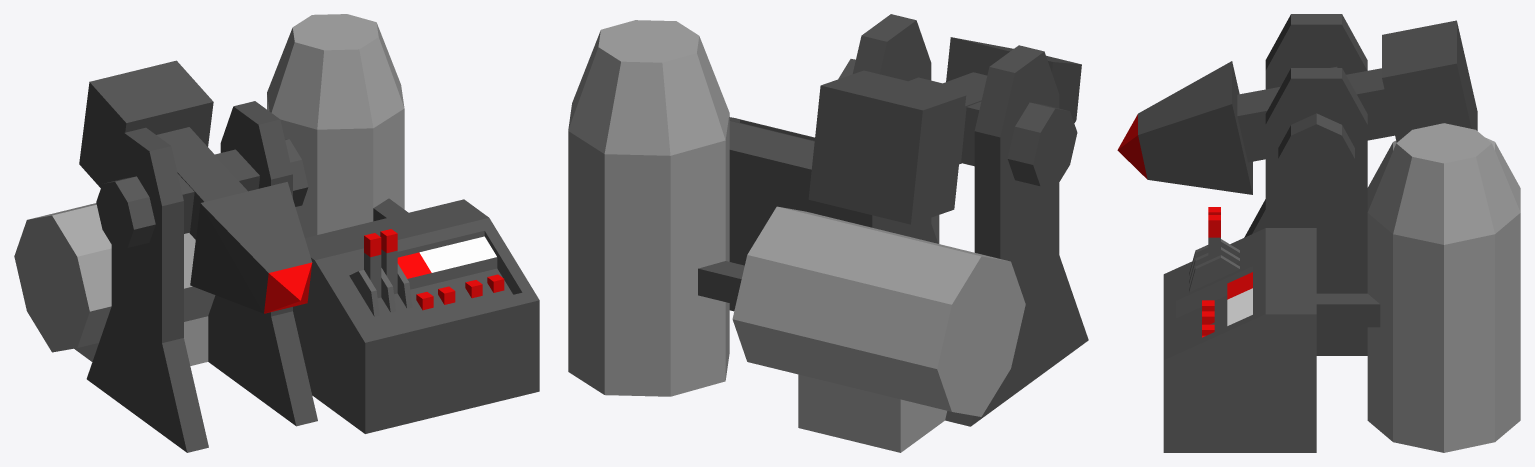
The model's file is madmachine.obj.
The picture shows the model from 3 angles, left to right: view 1: azimuth 30°, elevation 25°; view 2: azimuth 150°, elevation 25°; view 3: azimuth 270°, elevation 25°; orthographic projection. The views are drawn at different scales.
Parts seen in each view (by area): view 1: madmachine_back; view 2: madmachine_back; view 3: madmachine_back.
Part boxes in pixels (bbox=[...]): madmachine_back: bbox=[14, 14, 539, 452]; madmachine_back: bbox=[568, 14, 1088, 452]; madmachine_back: bbox=[1117, 14, 1520, 452].
Bounding box in the file's own units: 2.56 × 1.95 × 2.53.
